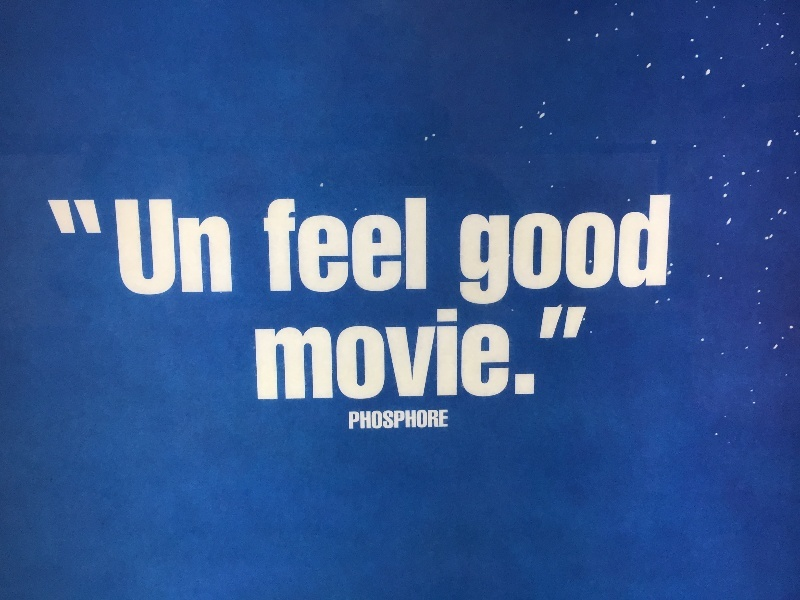text: (465, 194, 480, 305), (481, 194, 496, 305), (497, 194, 512, 305), (513, 194, 528, 305), (529, 194, 544, 305), (545, 194, 560, 305), (561, 194, 576, 305), (577, 194, 592, 305), (593, 194, 608, 305), (609, 194, 624, 305), (625, 194, 640, 305), (641, 194, 656, 305), (657, 194, 672, 305), (49, 198, 64, 296), (65, 198, 80, 296), (81, 198, 96, 296), (97, 198, 112, 296), (113, 198, 128, 296), (129, 198, 144, 296), (145, 198, 160, 296), (161, 198, 176, 296), (177, 198, 192, 296), (193, 198, 208, 296), (209, 198, 224, 296), (273, 196, 288, 293), (289, 196, 304, 293), (305, 196, 320, 293), (321, 196, 336, 293), (337, 196, 352, 293), (353, 196, 368, 293), (369, 196, 384, 293), (385, 196, 400, 293), (401, 196, 416, 293), (257, 306, 272, 401), (273, 306, 288, 401), (289, 306, 304, 401), (305, 306, 320, 401), (321, 306, 336, 401), (337, 306, 352, 401), (353, 306, 368, 401), (369, 306, 384, 401), (385, 306, 400, 401), (401, 306, 416, 401), (417, 306, 432, 401), (433, 306, 448, 401), (449, 306, 464, 401), (465, 306, 480, 401), (481, 306, 496, 401), (497, 306, 512, 401), (513, 306, 528, 401), (529, 306, 544, 401), (545, 306, 560, 401), (561, 306, 576, 401), (417, 196, 428, 293), (577, 306, 588, 401), (262, 196, 272, 293), (225, 198, 233, 296), (460, 194, 464, 305), (433, 410, 449, 430), (353, 410, 368, 430), (369, 410, 384, 430), (385, 410, 400, 430), (401, 410, 416, 430), (417, 410, 432, 430), (254, 306, 256, 401), (349, 410, 352, 430)
